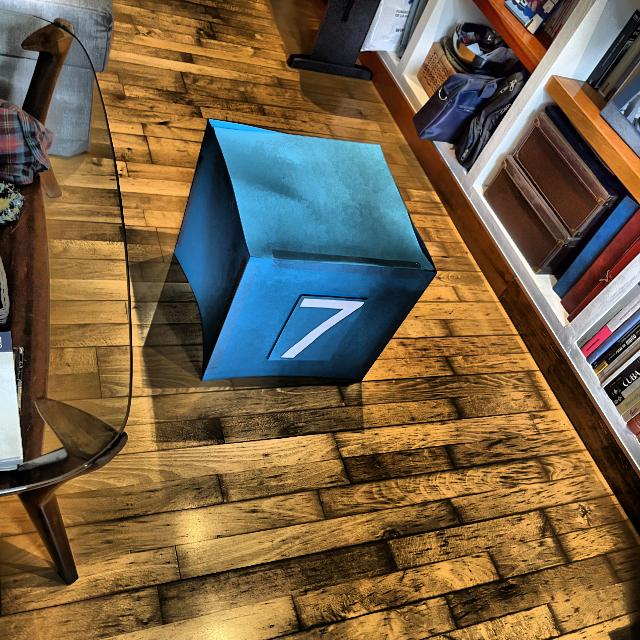blue box: (172, 125, 436, 392)
seven: (279, 291, 367, 364)
